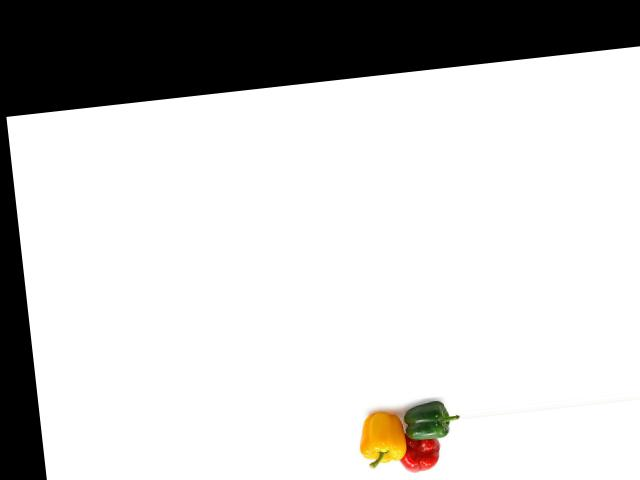bell_pepper: (392, 399, 457, 448)
